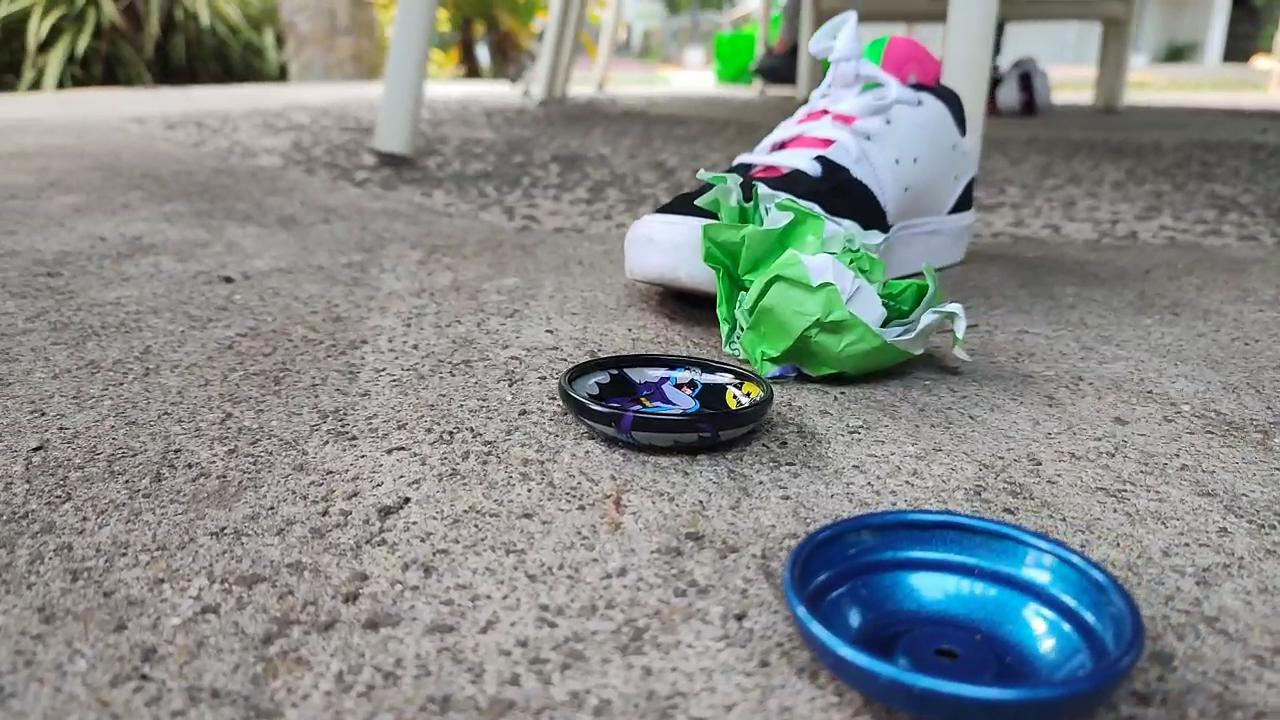Paper: (691, 179, 981, 391)
